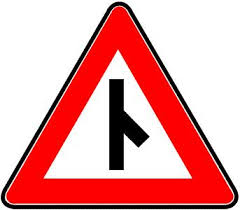Fork_road: (1, 2, 240, 208)
